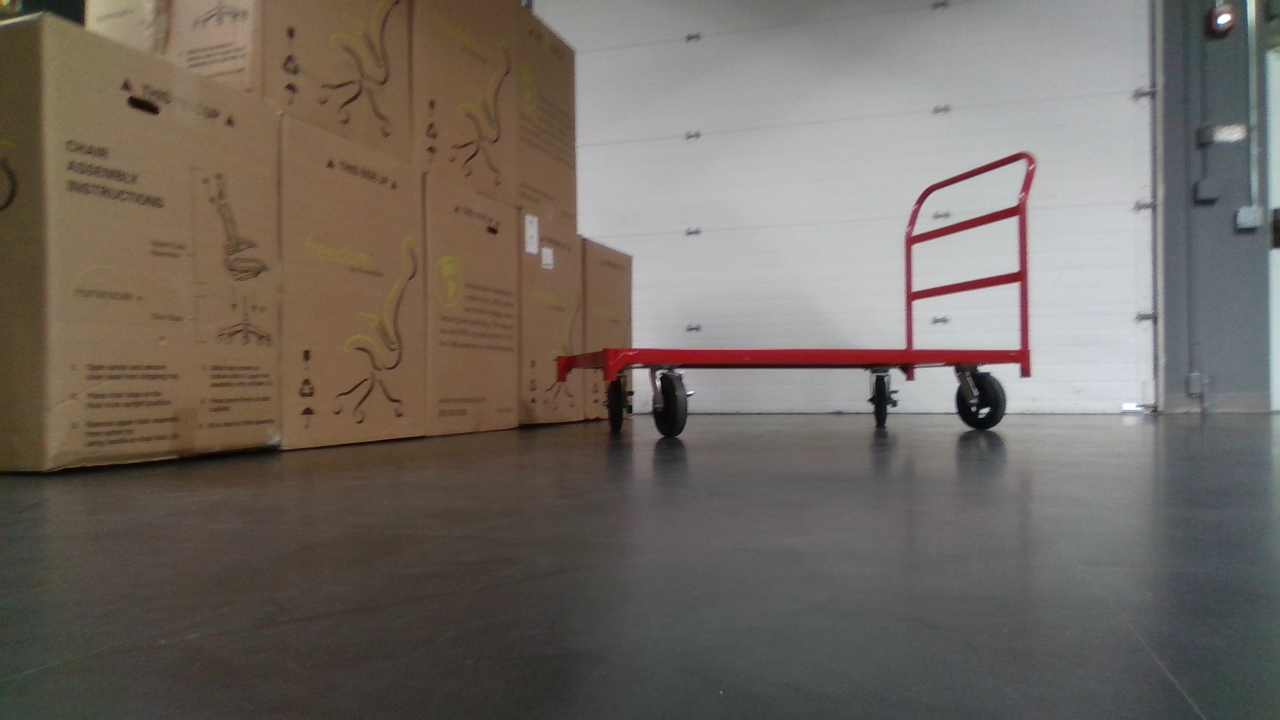Dolly: (556, 150, 1038, 440)
Wheel: (952, 372, 1007, 430), (649, 372, 689, 438), (602, 372, 635, 431), (866, 370, 896, 428)
